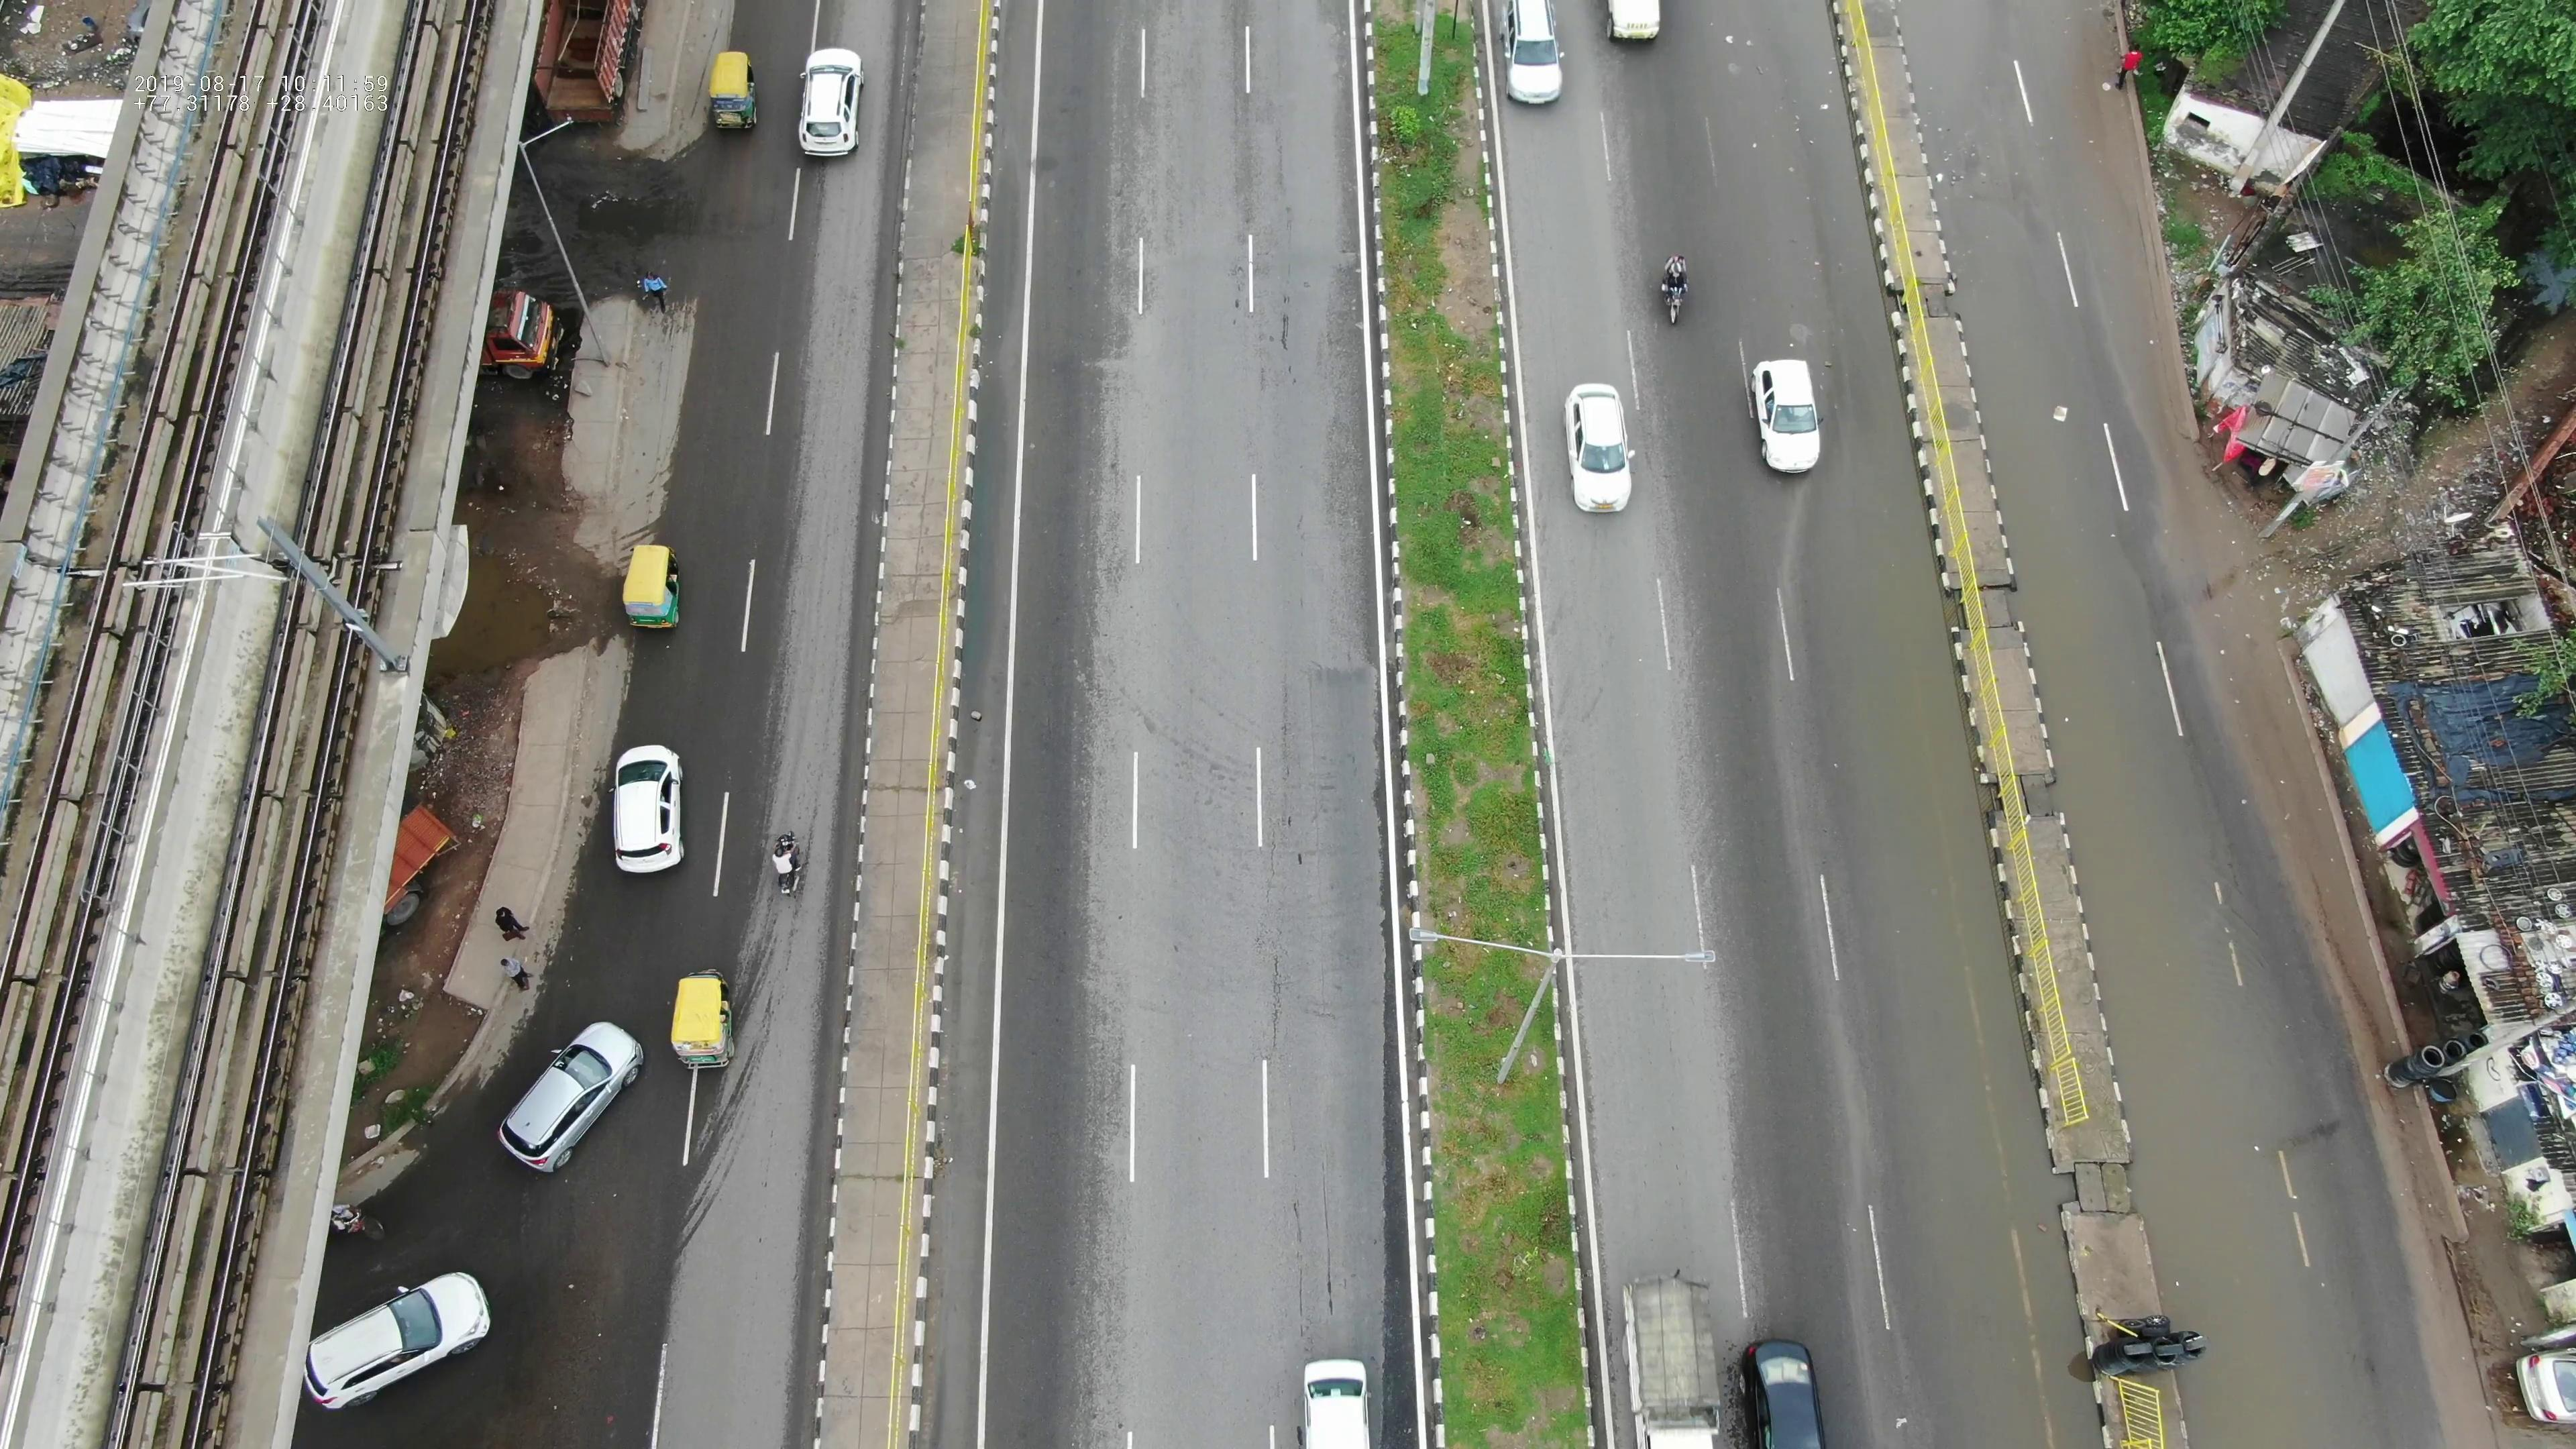Waterlogging: (1955, 313, 2199, 805), (1801, 501, 2026, 906), (2082, 929, 2305, 1311), (1886, 977, 2089, 1341)
